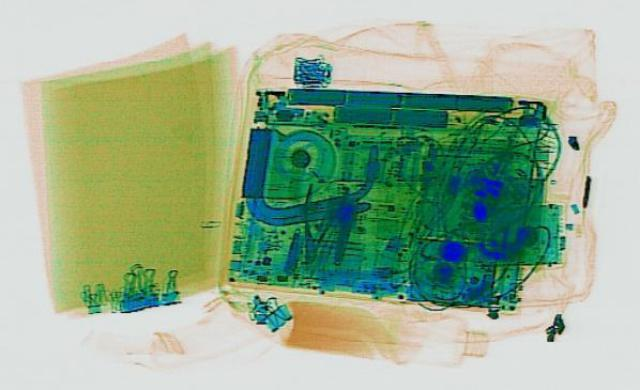Pliers: (288, 181, 346, 261)
